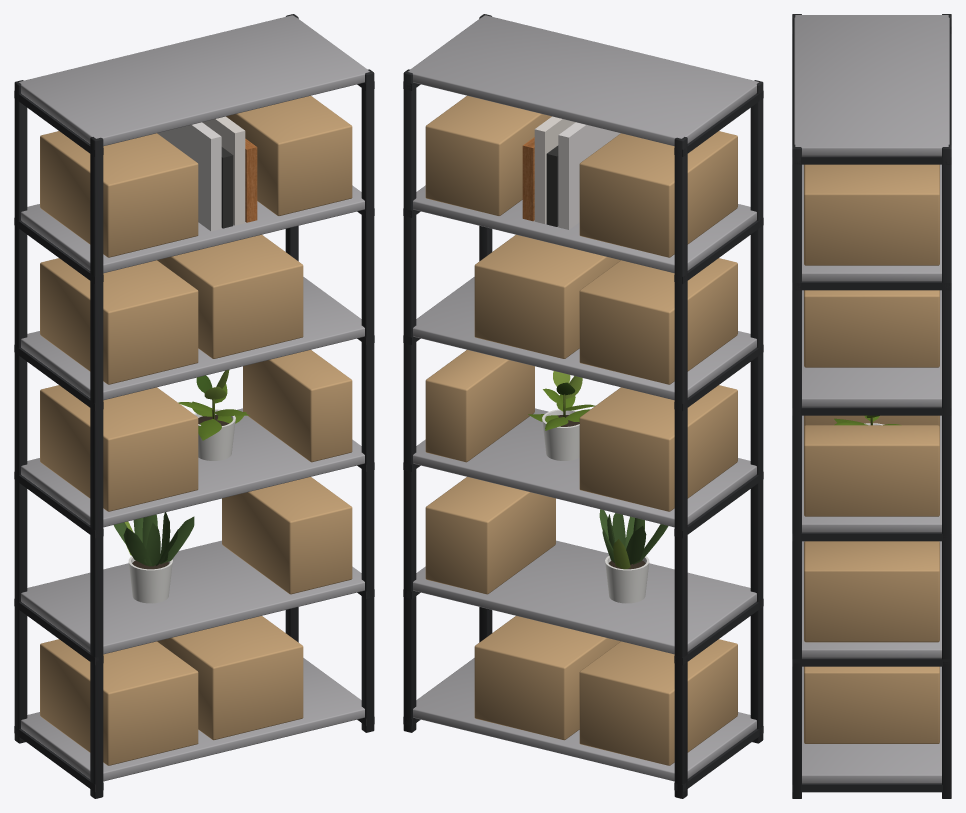
File: storage.cleaning-supply-shelf.glb
The picture shows the model from 3 angles, left to right: view 1: azimuth 30°, elevation 25°; view 2: azimuth 150°, elevation 25°; view 3: azimuth 270°, elevation 25°; orthographic projection.
Parts seen in each view (by area): view 1: storage.cleaning-supply-shelf.001; view 2: storage.cleaning-supply-shelf.001; view 3: storage.cleaning-supply-shelf.001.
Boxes of the visible parts, x1,y1,x2,y2 form: storage.cleaning-supply-shelf.001: (14, 14, 374, 798); storage.cleaning-supply-shelf.001: (403, 14, 763, 798); storage.cleaning-supply-shelf.001: (792, 14, 951, 798).
Bounding box in the file's own units: 0.8 × 1.8 × 0.4.
14 materials, 1 textured.
